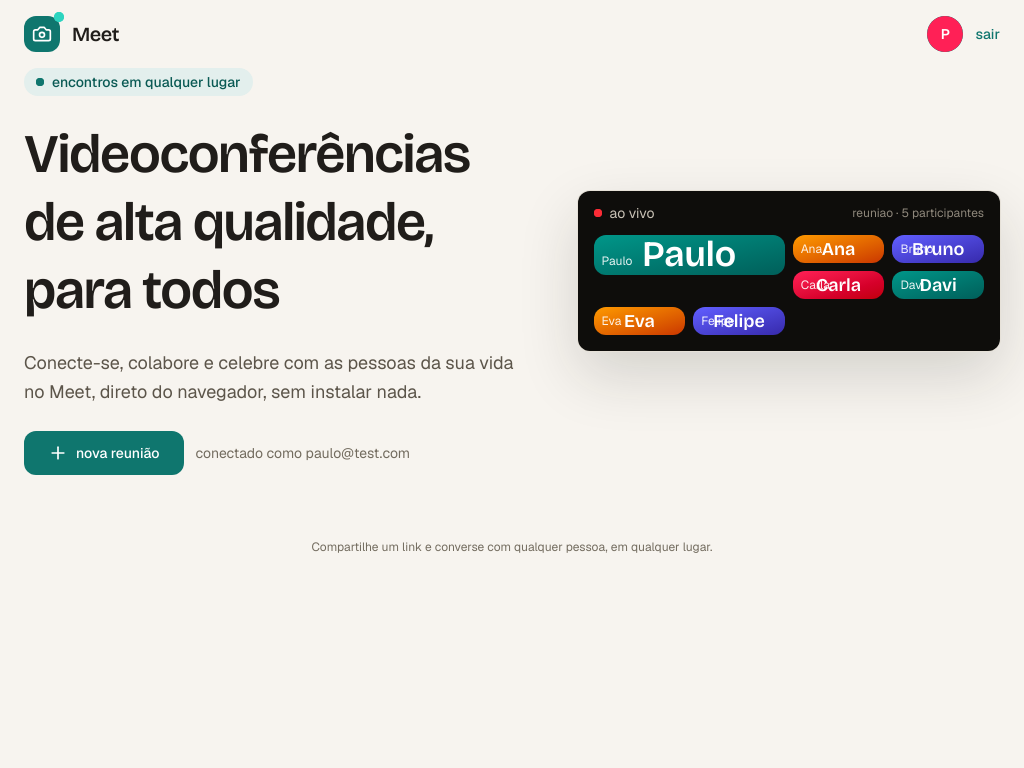
Test case: Home › mostra erro quando a criacao da reuniao falha
Click the button "nova reunião" at (104, 452), box [24,430,184,474]
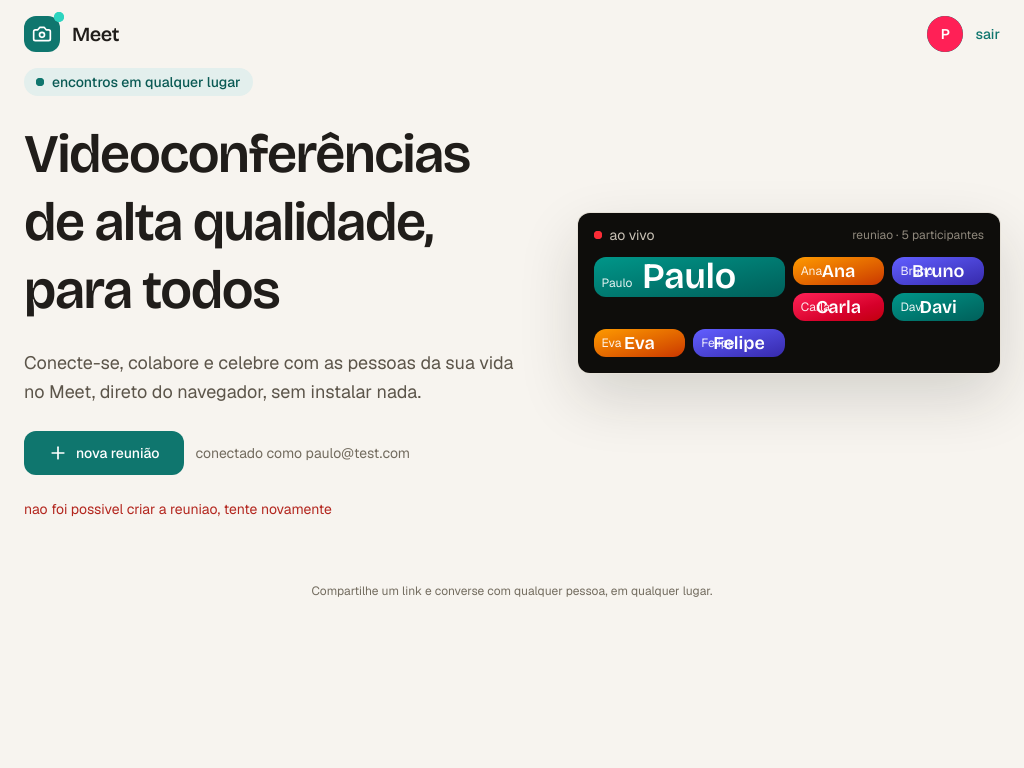
Now the text "nao foi possivel criar a reuniao, tente novamente" is shown, box [24,498,332,518]
